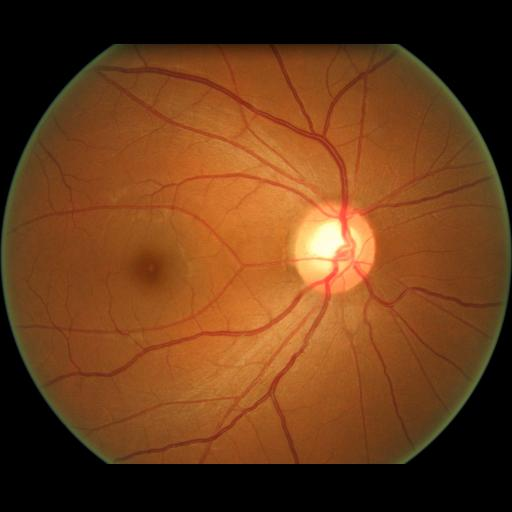Optic Cup: (309, 219, 361, 274)
Optic Disc: (294, 203, 376, 293)
